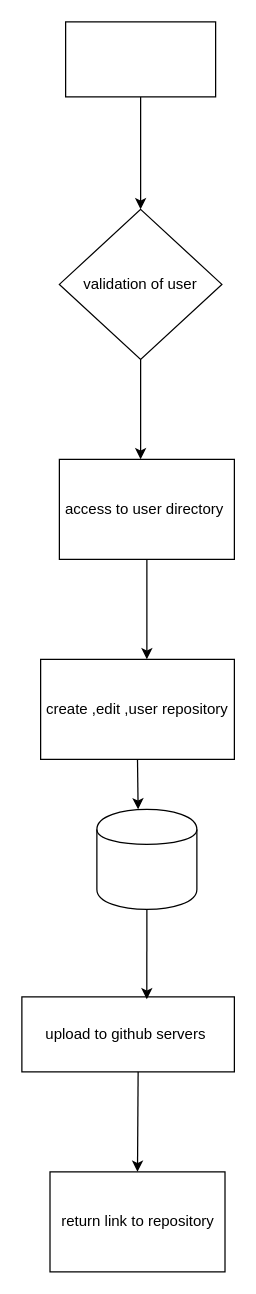
The diagram is 256 pixels wide and 1294 high, and some of its shapes have lost their labels. Here are the shapes that lost their labels. From the top down, the centre of each, then its label:
the point at 140,59: enter the credentials
the point at 146,858: save to local database
